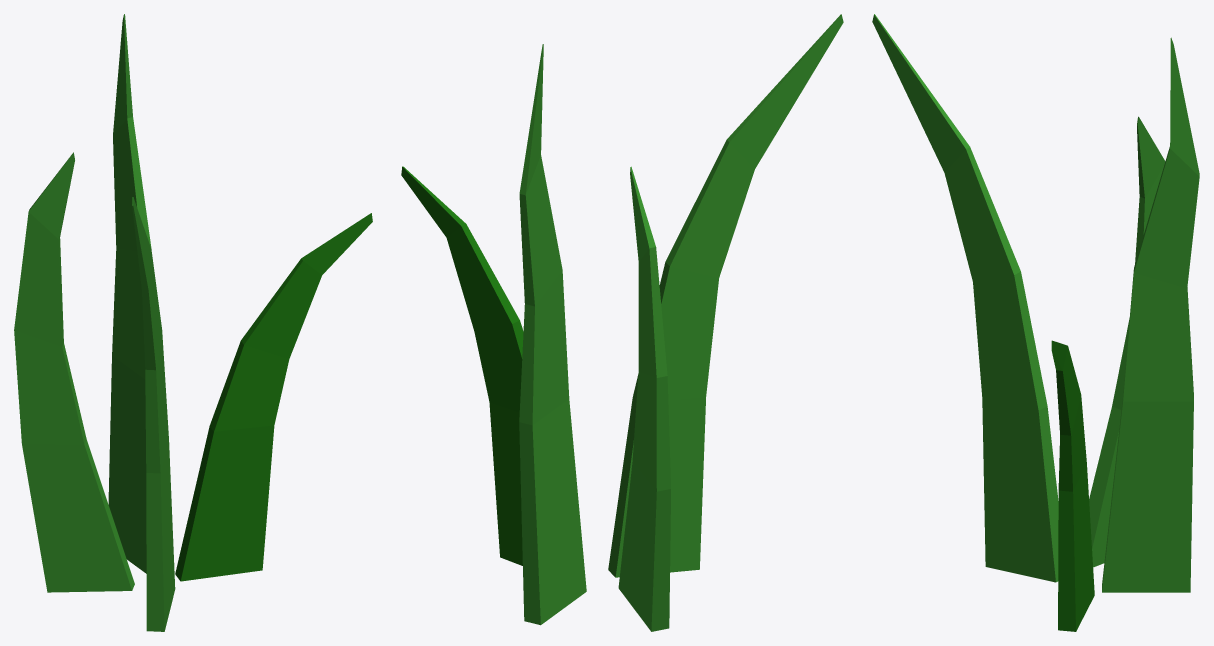
Rendered from ForestGrass(1).fbx.
3 views of the same model, side by side, from view 1: azimuth 30°, elevation 25°; view 2: azimuth 150°, elevation 25°; view 3: azimuth 270°, elevation 25° (orthographic). The views are drawn at different scales.
Visible parts, largest first — view 1: Grass(1); view 2: Grass(1); view 3: Grass(1).
Part boxes in pixels (bbox=[...]): Grass(1): bbox=[14, 14, 372, 631]; Grass(1): bbox=[401, 14, 843, 631]; Grass(1): bbox=[872, 14, 1199, 631].
Size of the model in its own units: 0.3921 by 0.6176 by 0.3298.
